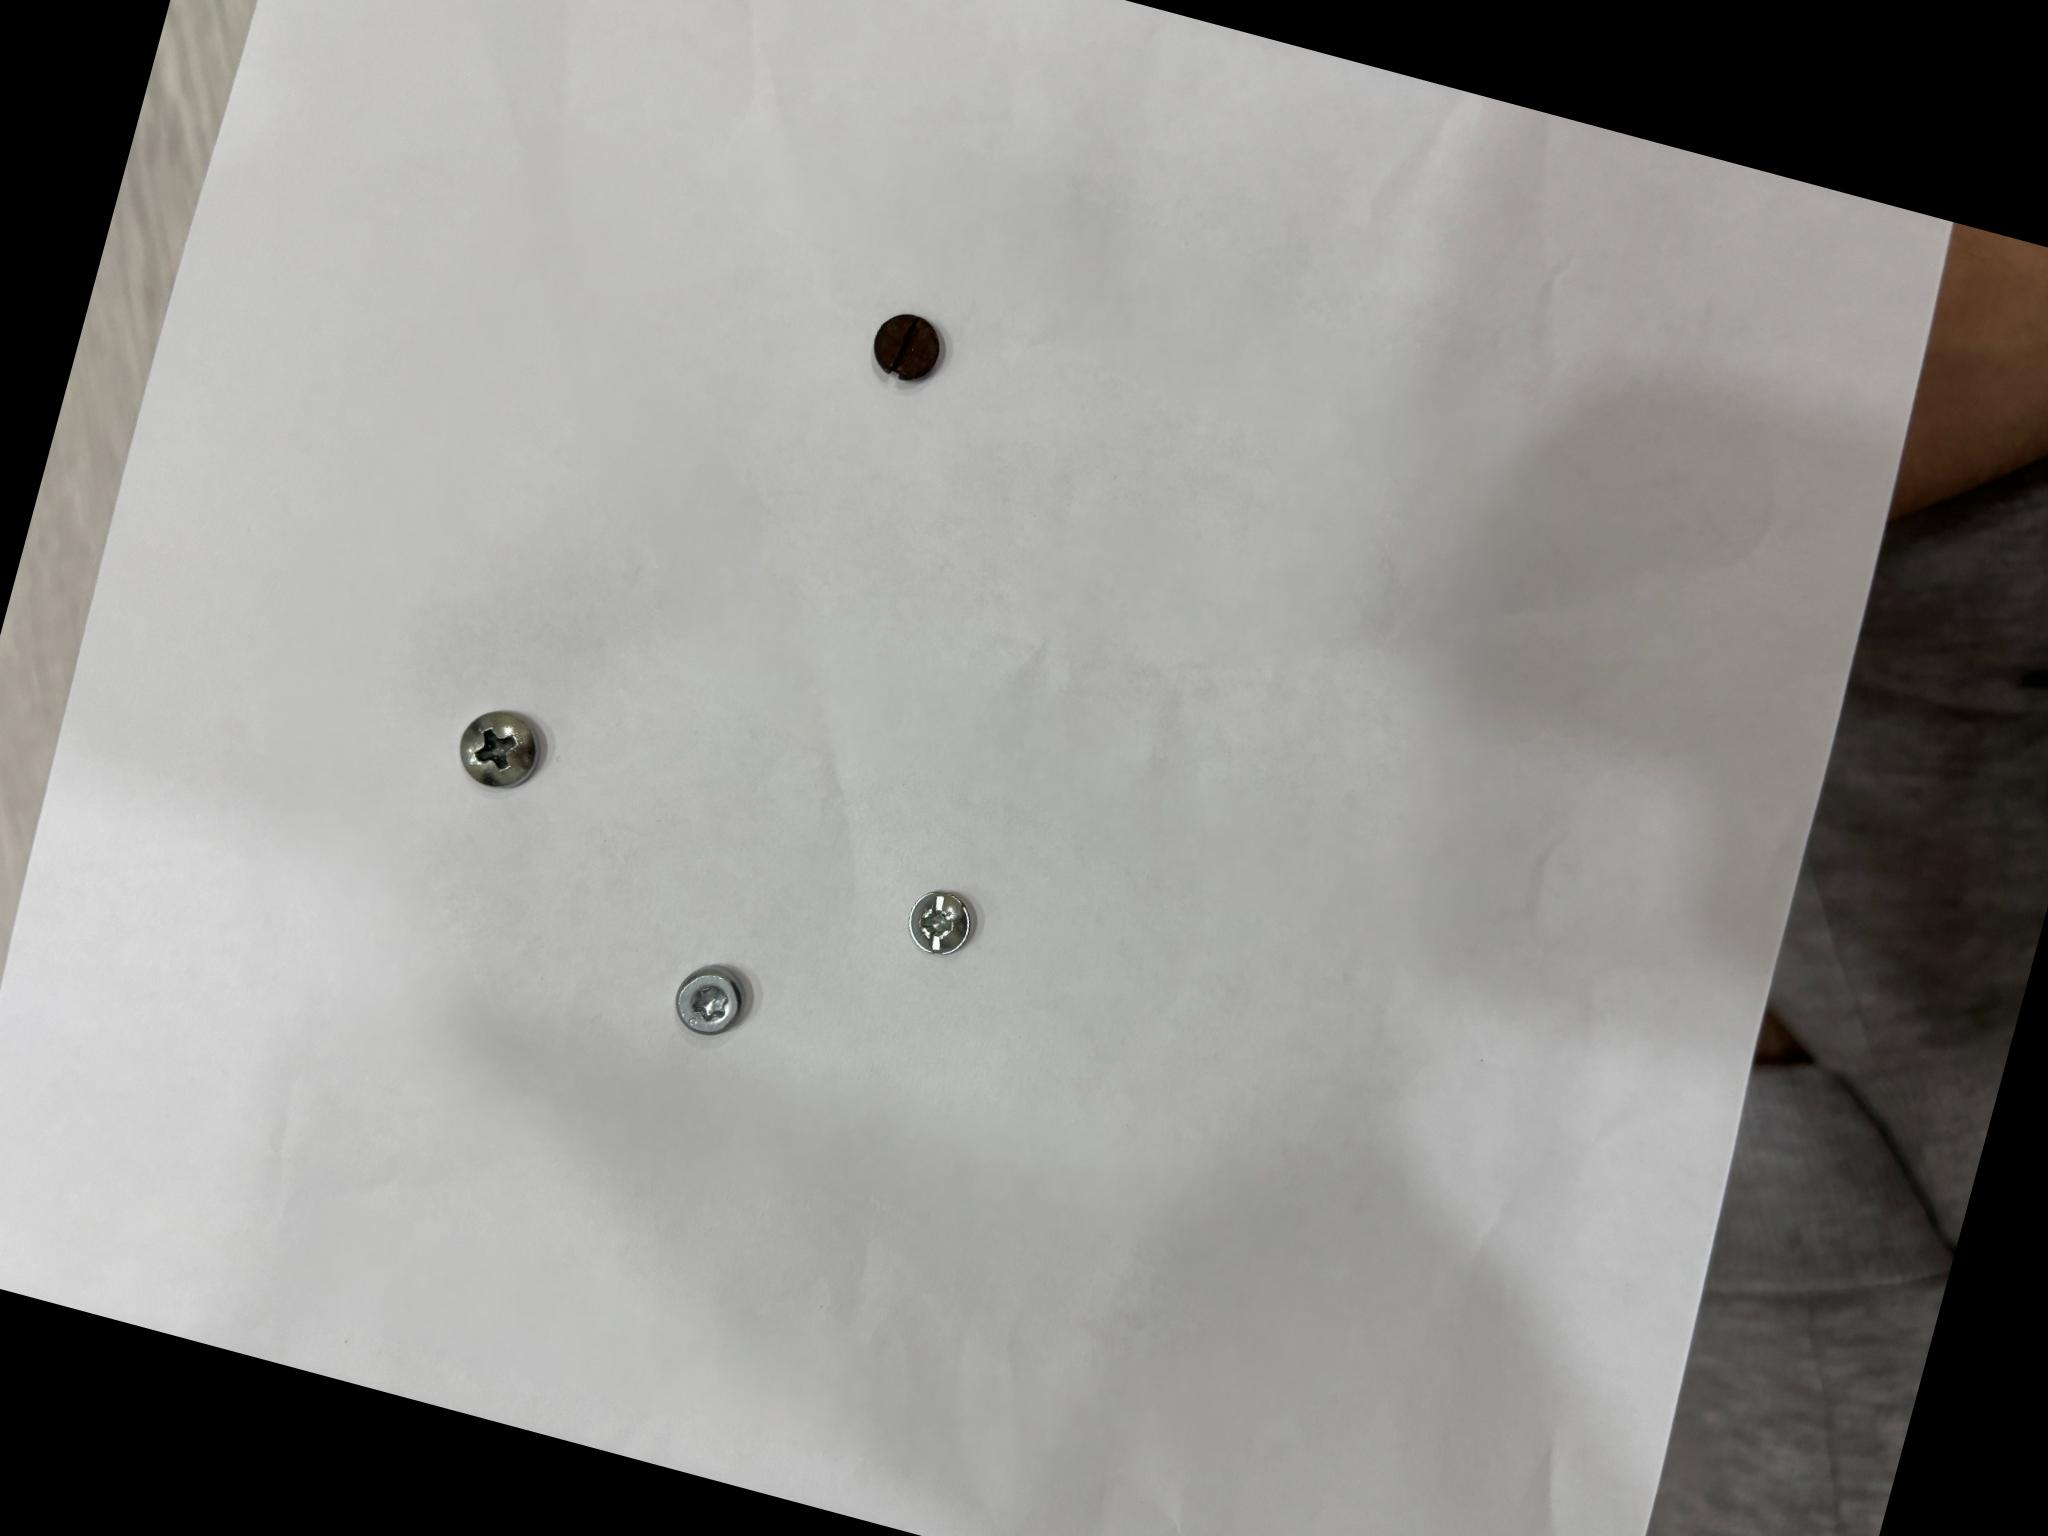PH: (460, 712, 539, 789)
PZ: (910, 891, 972, 955)
SL: (872, 313, 940, 381)
T: (676, 968, 743, 1034)
